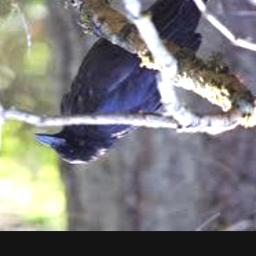Crow: (36, 0, 217, 165)
